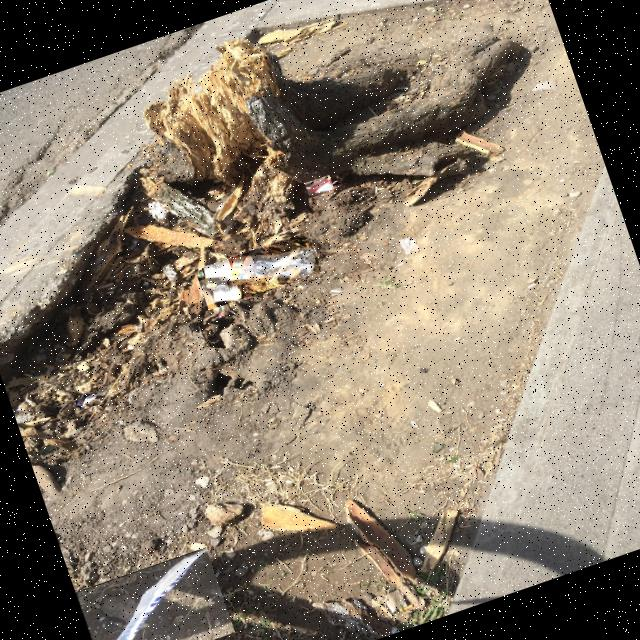Cigarette: (332, 289, 342, 293)
Clear plastic bottle: (197, 248, 317, 281)
Drink carton: (308, 177, 333, 194)
Foam cup: (206, 261, 232, 279)
Normal paper: (78, 394, 98, 409)
Plastic film: (117, 548, 207, 640), (203, 273, 224, 305)
Plastic straw: (329, 180, 339, 188)
